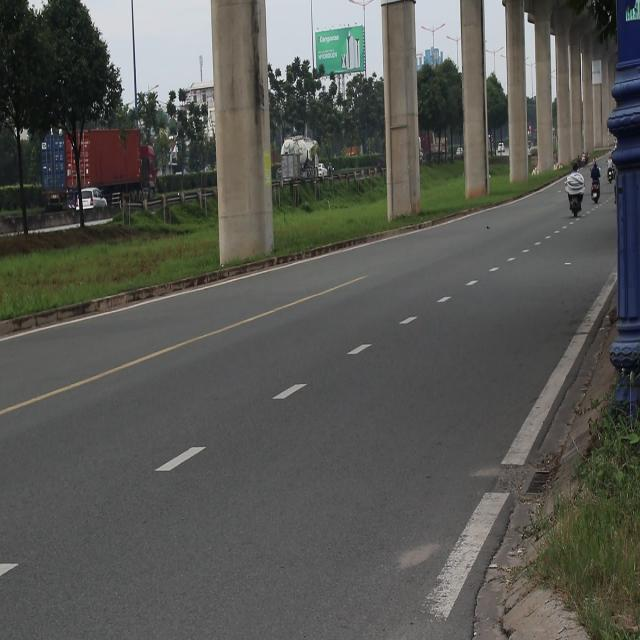car: (71, 188, 107, 209)
motorbike: (560, 184, 588, 223), (588, 180, 602, 210), (604, 156, 617, 188)
truck: (79, 128, 159, 205), (282, 145, 304, 195)
